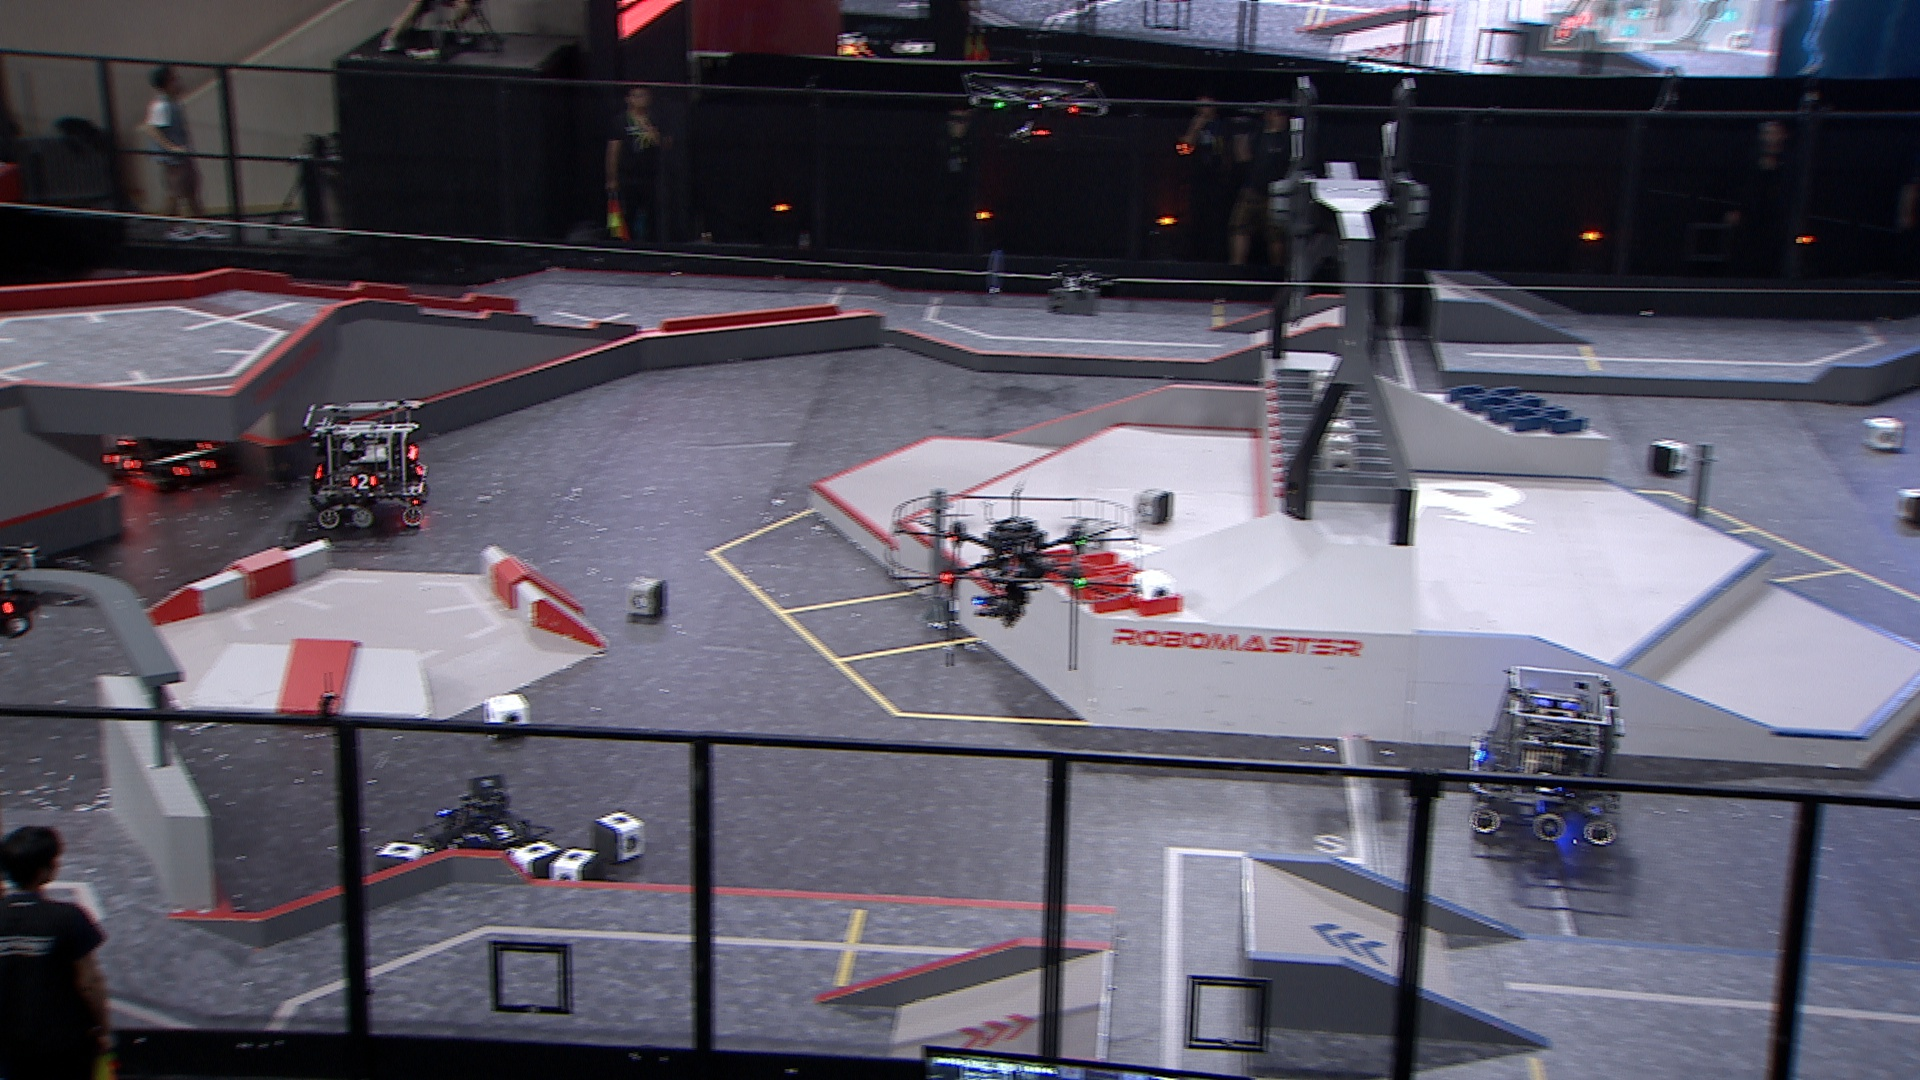armor: (485, 818, 524, 844), (1527, 770, 1564, 794), (107, 448, 138, 475), (177, 458, 208, 477), (351, 473, 377, 491), (411, 460, 425, 476)
car: (1470, 655, 1629, 851), (297, 400, 439, 535), (98, 389, 237, 491), (427, 777, 531, 873)
